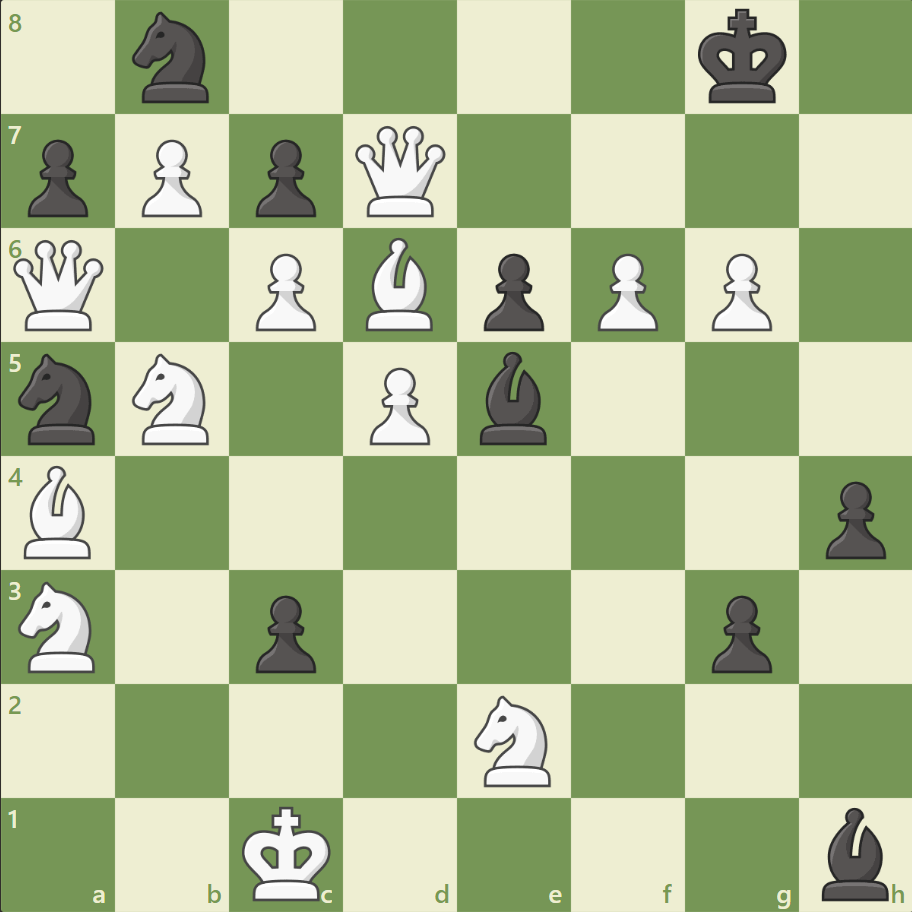B: (358, 233, 442, 336), (17, 460, 101, 563)
K: (238, 798, 338, 906)
N: (124, 348, 222, 450), (465, 688, 562, 791), (11, 575, 108, 677)
P: (133, 132, 208, 223), (247, 246, 322, 337), (701, 246, 776, 337), (588, 246, 662, 337), (361, 359, 435, 450)
Q: (351, 122, 450, 222), (10, 236, 109, 335)
b: (812, 801, 896, 904), (471, 347, 555, 449)
k: (692, 4, 792, 112)
n: (124, 7, 222, 110), (11, 348, 108, 450)
p: (20, 132, 95, 223), (247, 132, 322, 223), (474, 246, 549, 337), (247, 586, 322, 677), (701, 586, 776, 677), (815, 473, 889, 564)
